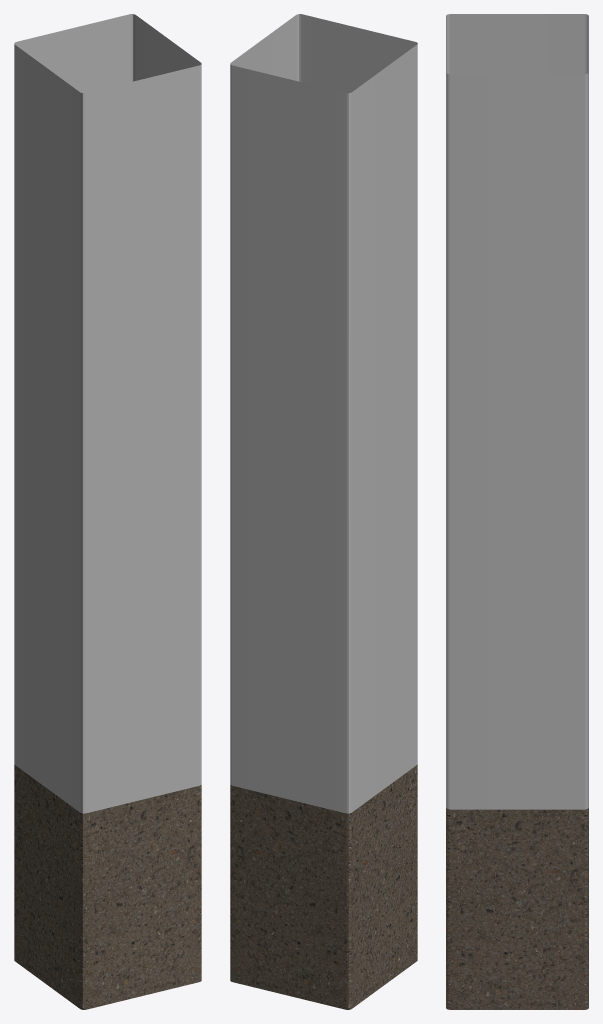
File: Column03.fbx
The picture shows the model from 3 angles, left to right: view 1: azimuth 30°, elevation 25°; view 2: azimuth 150°, elevation 25°; view 3: azimuth 270°, elevation 25°; orthographic projection. The views are drawn at different scales.
Visible parts, largest first — view 1: Column03; view 2: Column03; view 3: Column03.
Part boxes in pixels (bbox=[...]): Column03: bbox=[14, 14, 201, 1009]; Column03: bbox=[230, 14, 417, 1009]; Column03: bbox=[446, 14, 588, 1009].
Size of the model in its own units: 0.5 by 3.62 by 0.5.
